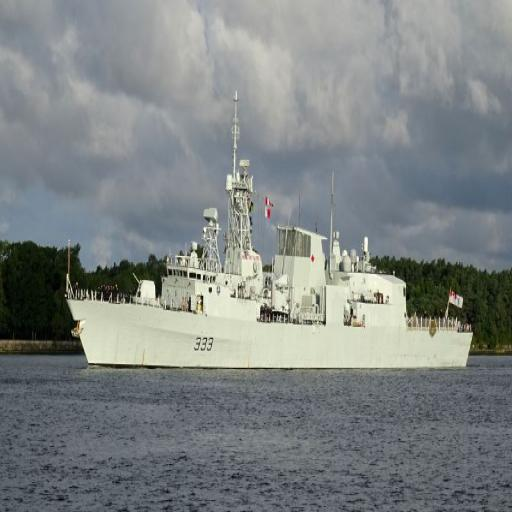Fragata: (60, 97, 476, 370)
